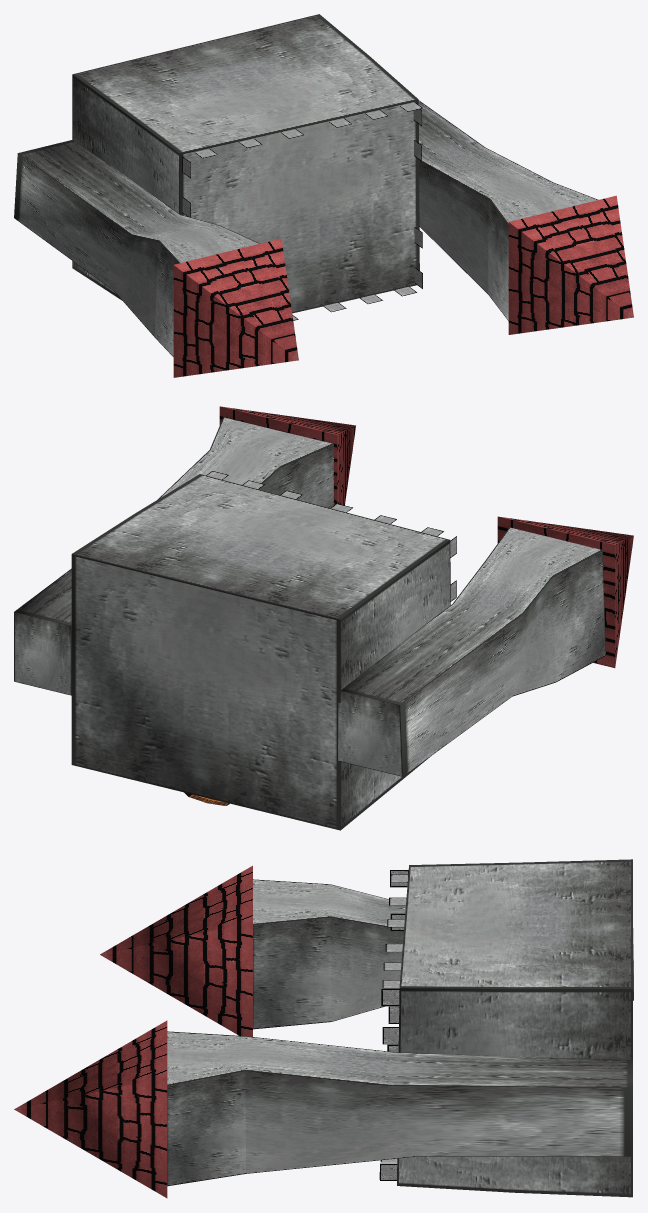
File: freecastle.obj
3 renders of one model, top to bottom at view 1: azimuth 30°, elevation 25°; view 2: azimuth 150°, elevation 25°; view 3: azimuth 270°, elevation 25°, orthographic. The views are drawn at different scales.
Parts seen in each view (by area): view 1: Middle Tow, Window1, Tower2, Spire2, Spire1; view 2: Middle Tow, Window1, Tower2, Spire1, Spire2; view 3: Tower2, Middle Tow, Window1, Spire2, Spire1.
Part boxes in pixels (x1,y1,x2,y2): Middle Tow: (72,14,419,313); Window1: (14,140,259,356); Tower2: (418,100,598,320); Spire2: (508,195,633,334); Spire1: (173,238,298,377); Middle Tow: (71,474,450,830); Window1: (337,527,605,776); Tower2: (14,417,333,695); Spire1: (497,516,633,667); Spire2: (219,406,355,505); Tower2: (167,1031,632,1186); Middle Tow: (397,859,632,1197); Window1: (253,879,633,1029); Spire2: (14,1020,167,1198); Spire1: (100,865,252,1036).
Bounding box in the file's own units: 65.29 × 31.59 × 80.9.
Materials: 6 (6 with a texture image).
